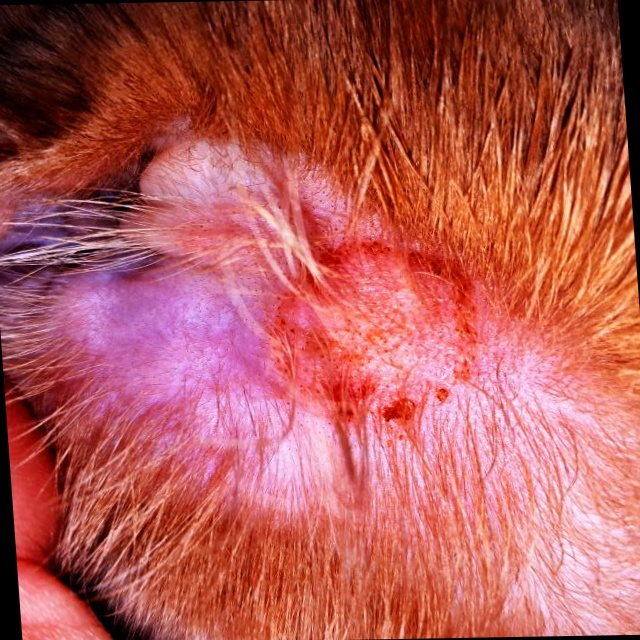ringworm: (255, 239, 488, 418)
